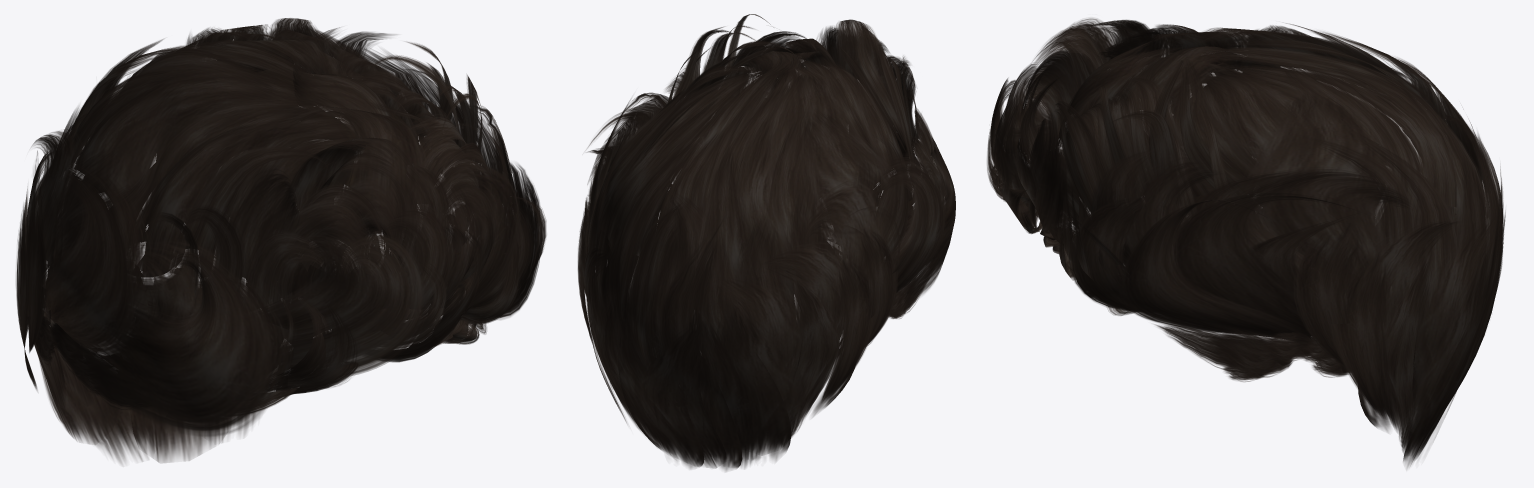
Rendered from diamond_wavy_01 FrenchCrop1.glb.
3 renders of one model, left to right at view 1: azimuth 30°, elevation 25°; view 2: azimuth 150°, elevation 25°; view 3: azimuth 270°, elevation 25°, orthographic. The views are drawn at different scales.
Parts seen in each view (by area): view 1: s4studio_mesh_2.009 obj; view 2: s4studio_mesh_2.009 obj; view 3: s4studio_mesh_2.009 obj.
Boxes of the visible parts, x1,y1,x2,y2 form: s4studio_mesh_2.009 obj: [16, 18, 546, 464]; s4studio_mesh_2.009 obj: [577, 14, 955, 471]; s4studio_mesh_2.009 obj: [987, 18, 1505, 468].
Bounding box in the file's own units: 0.2051 × 0.24 × 0.2661.
Materials: 1 (1 with a texture image).
